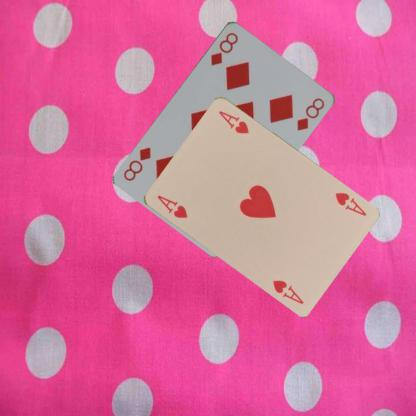8d: (208, 30, 240, 66)
Ah: (332, 189, 367, 218), (154, 192, 188, 220)
